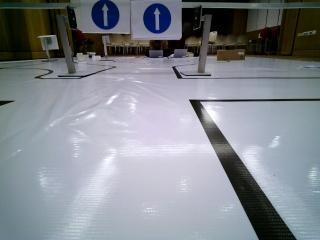straight: (132, 0, 182, 37), (78, 0, 130, 34)
